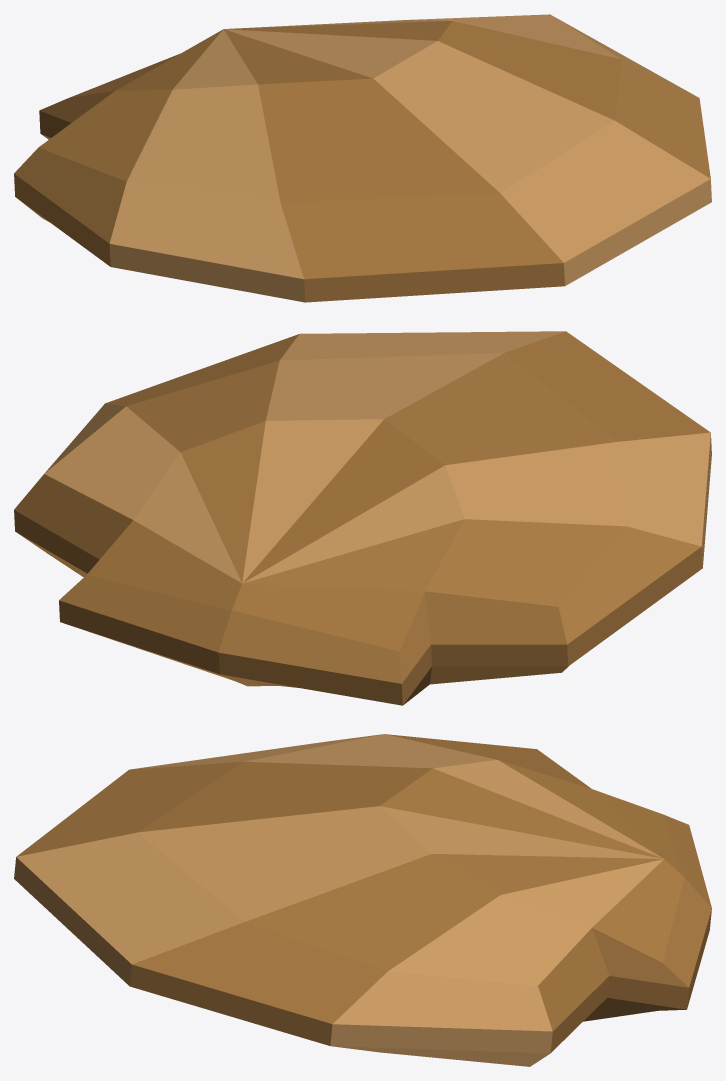
The model's file is nature_clam.fbx.
3 views of the same model, one above another, from view 1: azimuth 30°, elevation 25°; view 2: azimuth 150°, elevation 25°; view 3: azimuth 270°, elevation 25° (orthographic). The views are drawn at different scales.
Visible parts, largest first — view 1: nature_clam; view 2: nature_clam; view 3: nature_clam.
Boxes of the visible parts, <box> form: nature_clam: <box>14,14,711,302</box>; nature_clam: <box>14,331,711,705</box>; nature_clam: <box>14,734,711,1066</box>.
Bounding box in the file's own units: 192 × 53.2 × 200.
